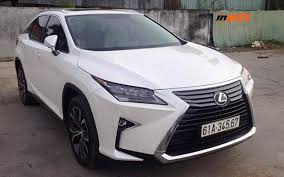Bien-so: (202, 115, 240, 138)
